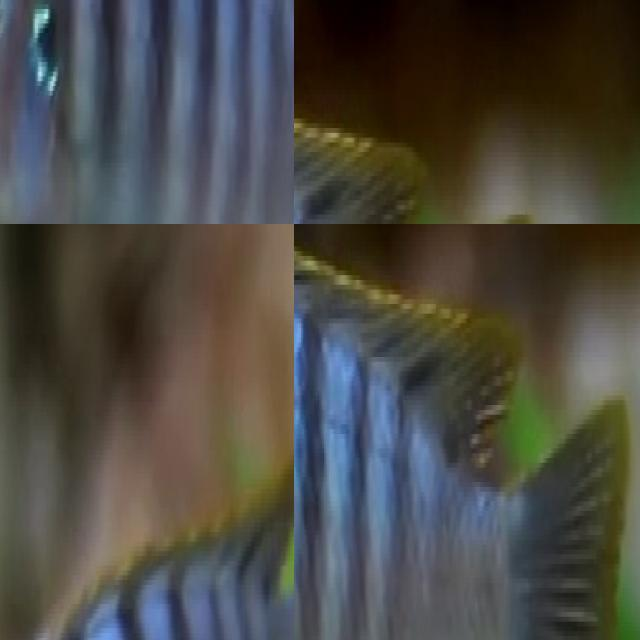fish: (294, 224, 636, 640), (0, 0, 294, 224), (294, 60, 536, 224)
